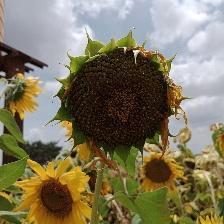sunflower: (55, 35, 183, 172), (17, 156, 94, 224), (136, 154, 190, 194), (2, 67, 43, 119)
